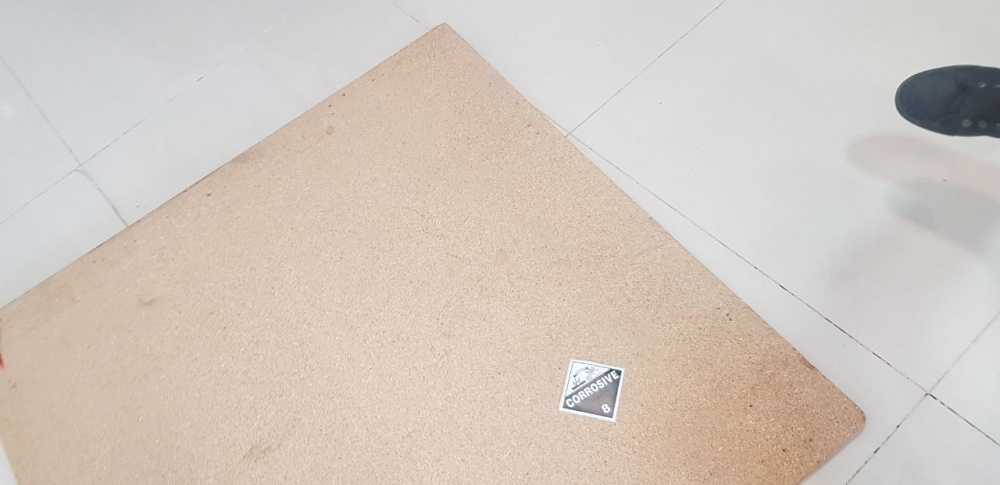Corrosive: (558, 359, 624, 422)
